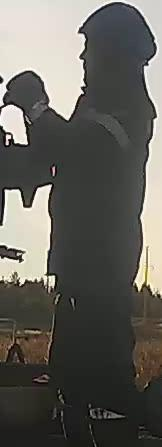gloves: (4, 71, 52, 126)
helmet: (78, 0, 162, 60)
vest: (49, 82, 157, 286)
